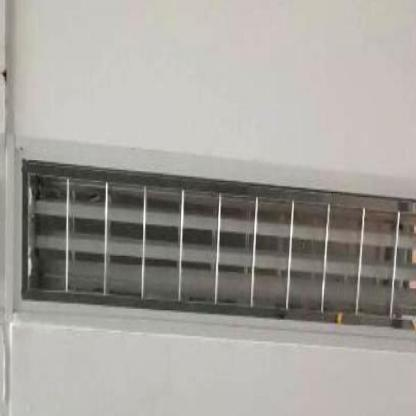light_off: (2, 113, 415, 357)
